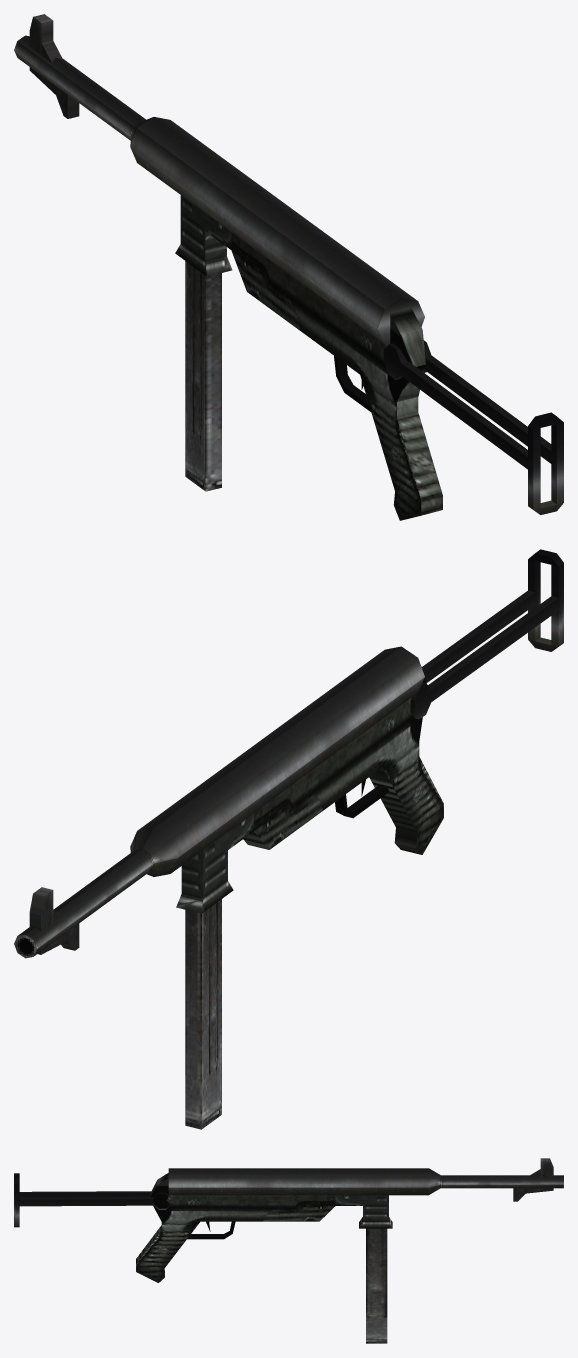
File: Wpn_MP40.fbx
The picture shows the model from 3 angles, top to bottom: view 1: azimuth 30°, elevation 25°; view 2: azimuth 150°, elevation 25°; view 3: azimuth 270°, elevation 25°; orthographic projection. The views are drawn at different scales.
Visible parts, largest first — view 1: xx, xxxxx; view 2: xx, xxxxx; view 3: xx, xxxxx.
Part boxes in pixels (x1,y1,x2,y2): xx: (14,14,563,520); xxxxx: (185,261,221,491); xx: (14,549,563,958); xxxxx: (185,899,221,1129); xx: (14,1158,563,1282); xxxxx: (366,1228,387,1343).
Bounding box in the file's own units: 4.08 × 28.58 × 78.35.
